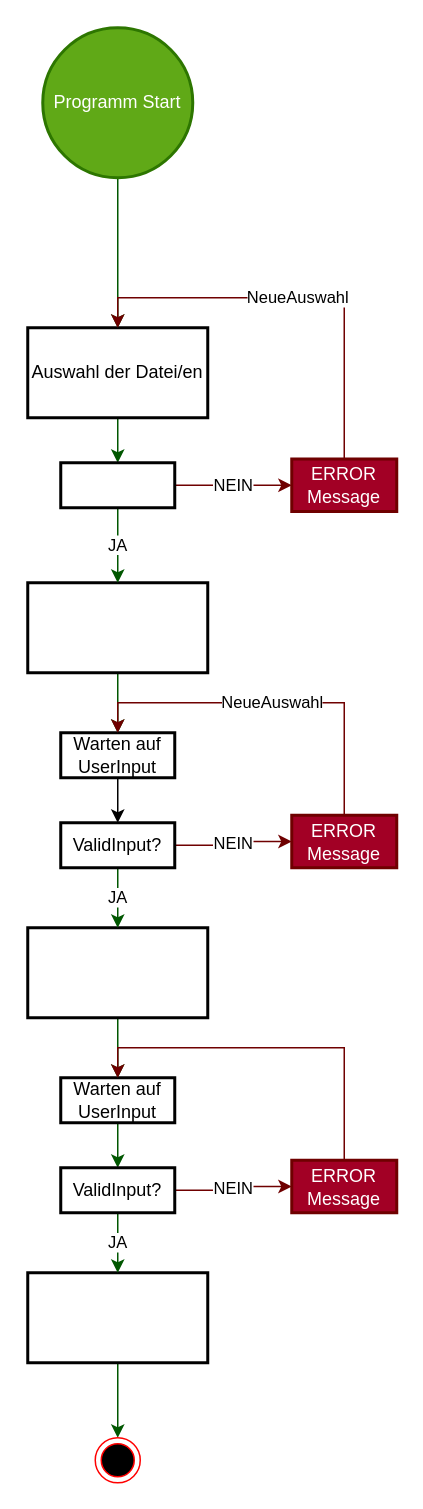
Some shapes in this 423 by 1509 pixel diagram are drawn without their labels. Here are the shapes that lost their labels. From the top down, the box of each, then its label:
(58, 460, 176, 508): GültigerPfad?
(26, 580, 208, 674): Einlesen/Bearbeiten/ Splitten der Datei/en
(26, 926, 208, 1018): Zeige gewünschte Daten
(26, 1270, 208, 1364): Bearbeitete datei/en abspeichern in eine neue Datei
